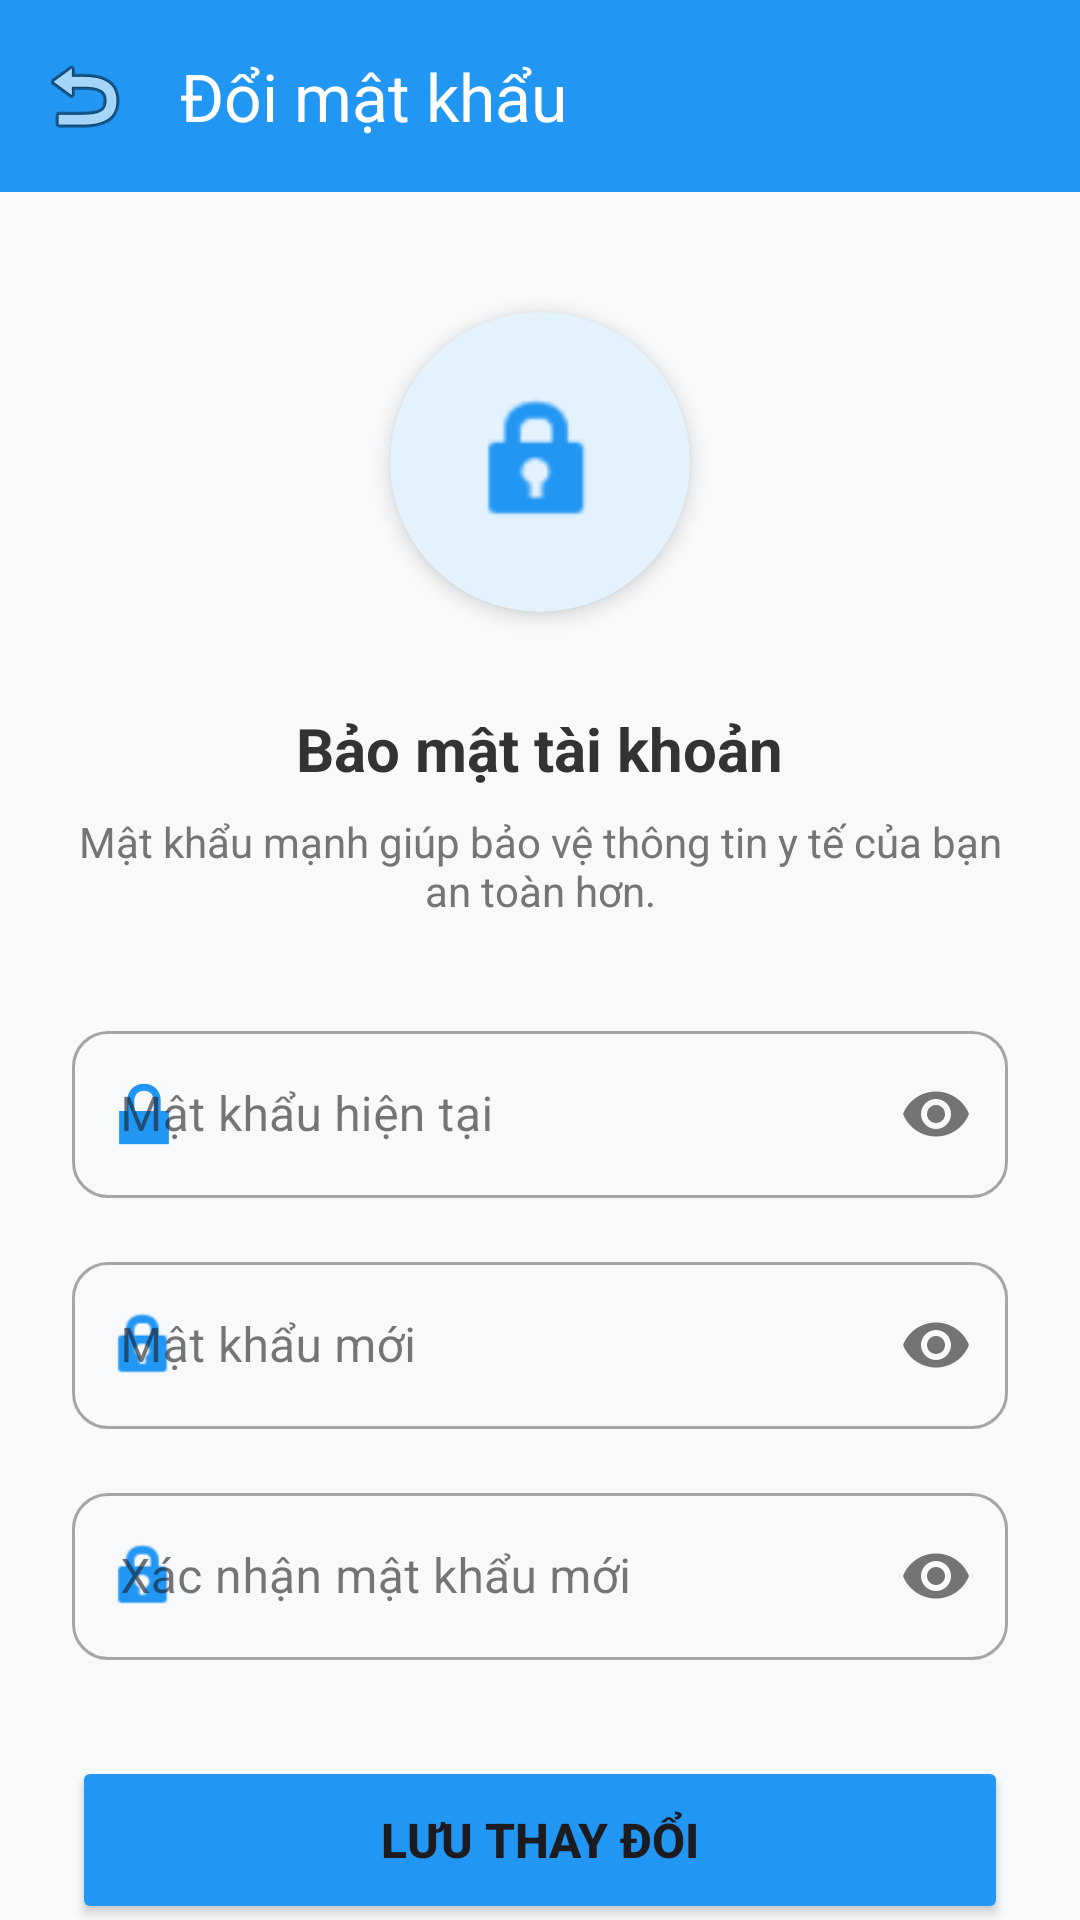

Named icons in this screenshot (1080 x 1920) and their bounding boxes, bbox=(x1, y1, x2, y2):
lock idle: bbox=(487, 400, 586, 515)
